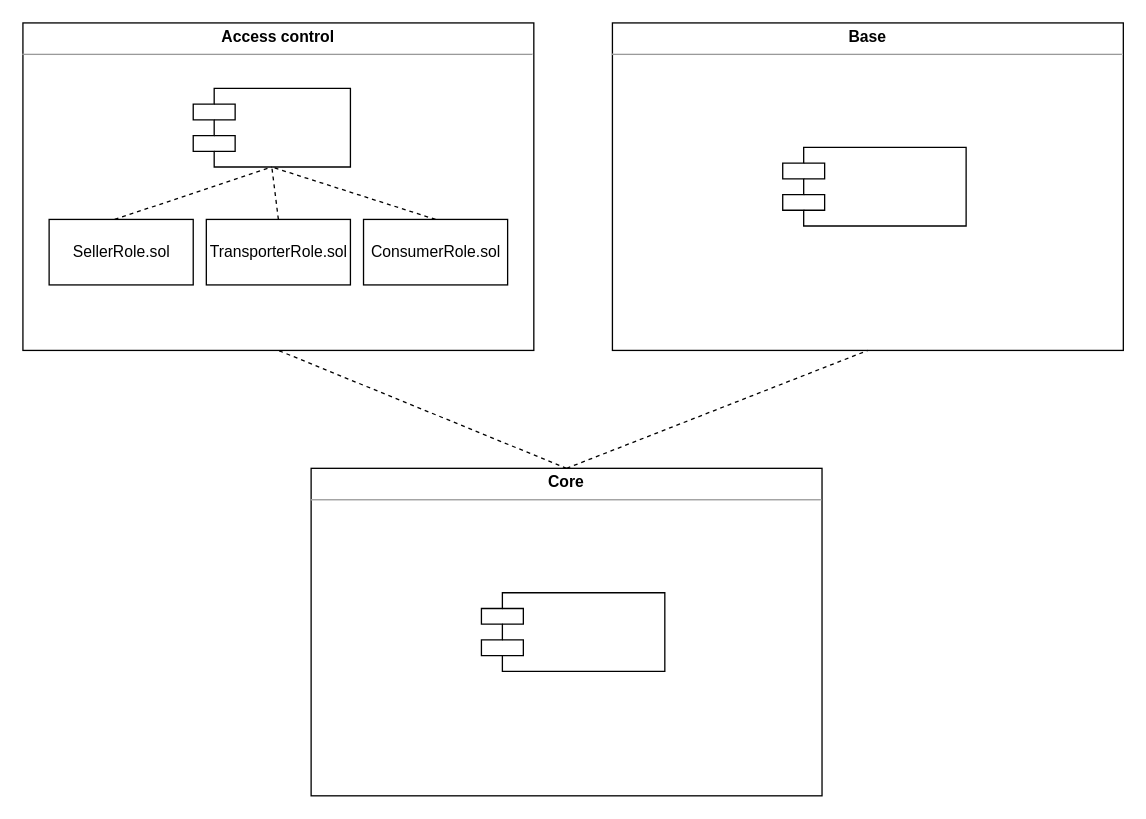
Image size: 1146x819. Some labels were removed from this diagram. Here are the shapes that lost their labels. From the top down, the centre of each, then its label:
At (x=271, y=127): "Roles.sol".
At (x=873, y=186): "SupplyChain.sol".
At (x=572, y=631): "Ownable.sol".
